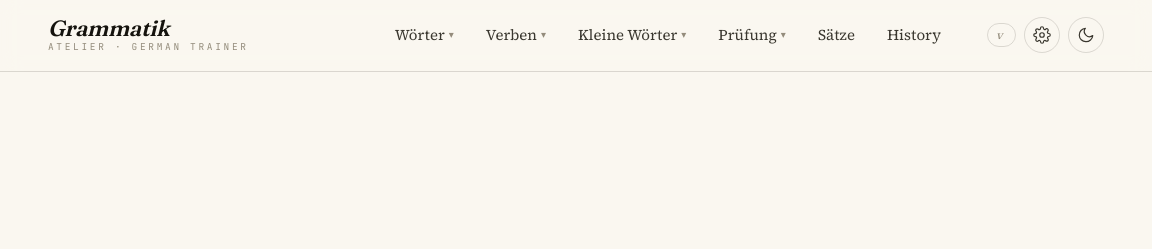
Test: NavShell › clicking Dativ inside the Verben panel navigates and closes the panel
Click the button with class "nav-trigger" showing "Verben ▾" at (516, 34), box [472,16,560,53]
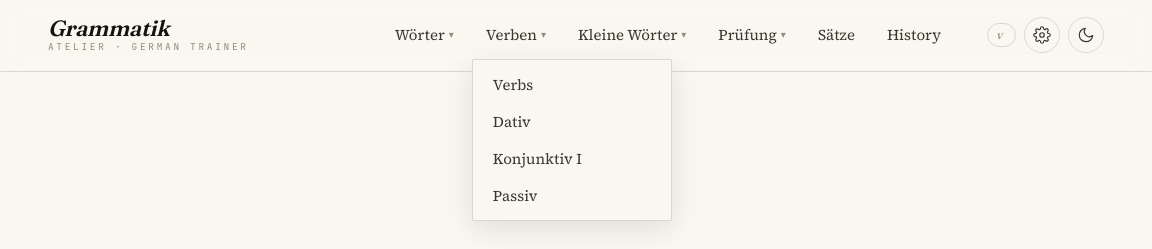
Now the menu item "Dativ" is shown
Click the menu item "Dativ" at (572, 122), box [479,103,665,140]
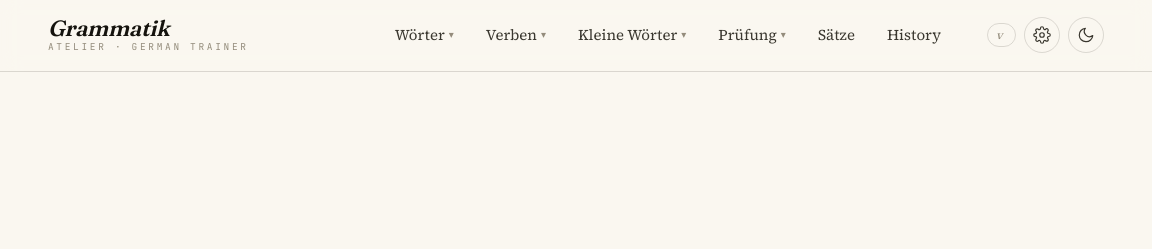
Now no menus with class "nav-panel" are shown
